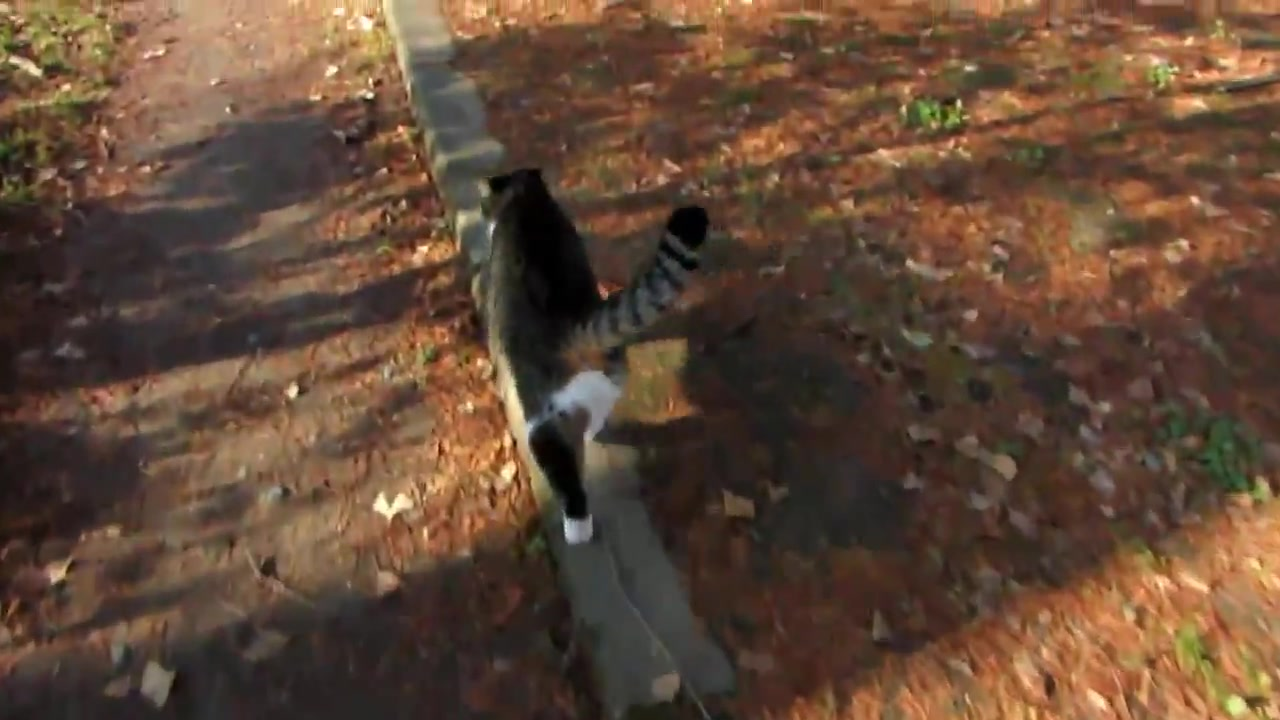cat: (469, 167, 712, 550)
